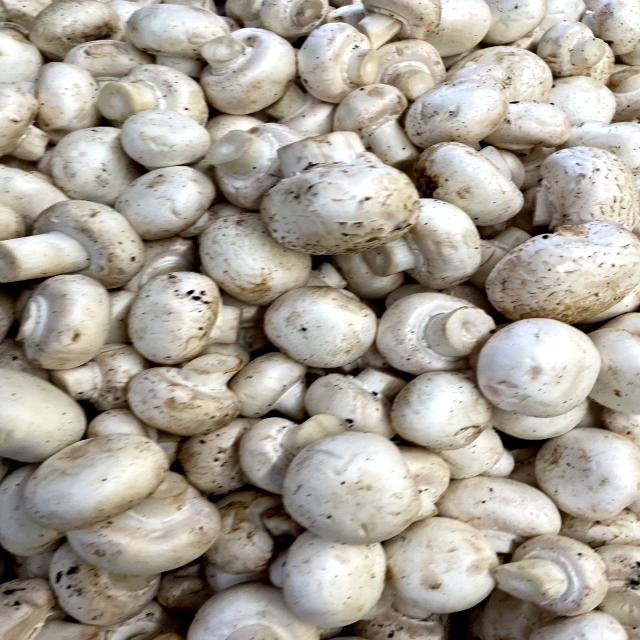mushroom: (0, 195, 157, 298), (371, 279, 513, 382), (124, 264, 251, 363), (489, 521, 612, 623), (125, 344, 256, 436), (328, 78, 441, 173), (198, 23, 302, 115), (294, 16, 389, 107)
